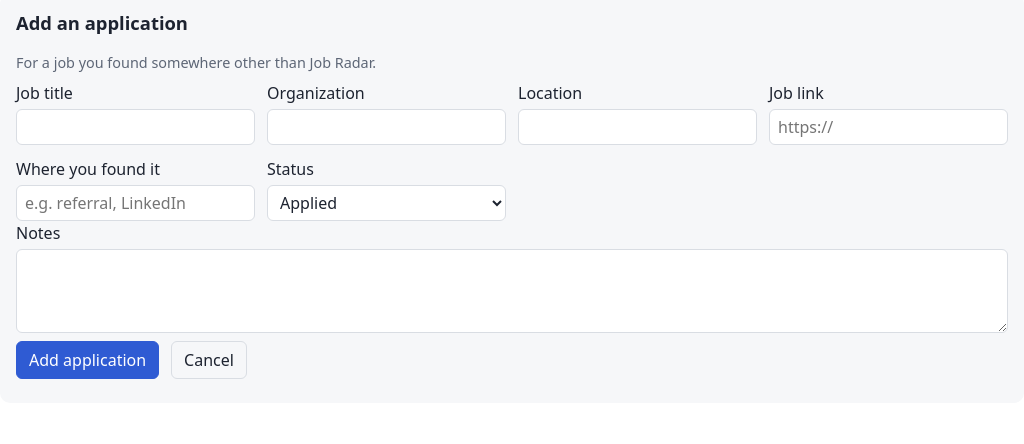
Test: AddApplicationForm › shows the server error
The width and height of the screenshot is (1024, 444).
Type "X" into the field labelled "Job title".
click(136, 128); type("X")  # box x1=16 y1=110 x2=255 y2=146
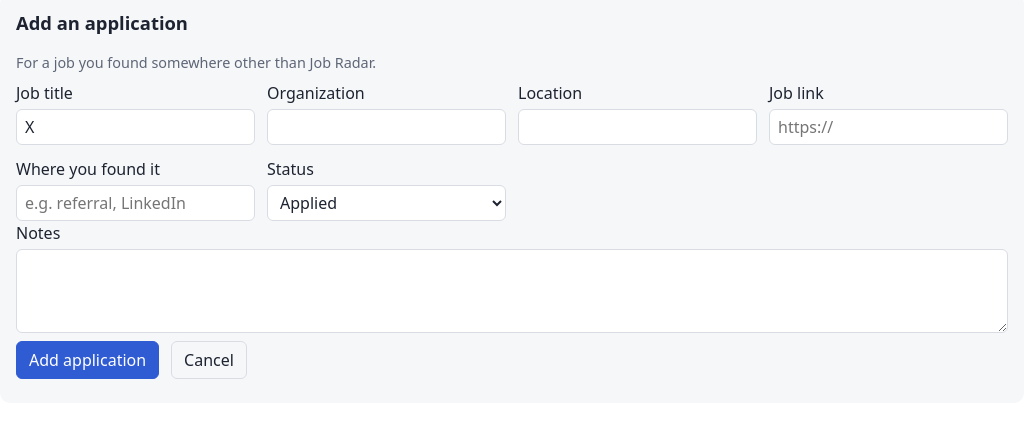
Type "Y" into the field labelled "Organization".
click(386, 128); type("Y")  # box x1=267 y1=110 x2=506 y2=146
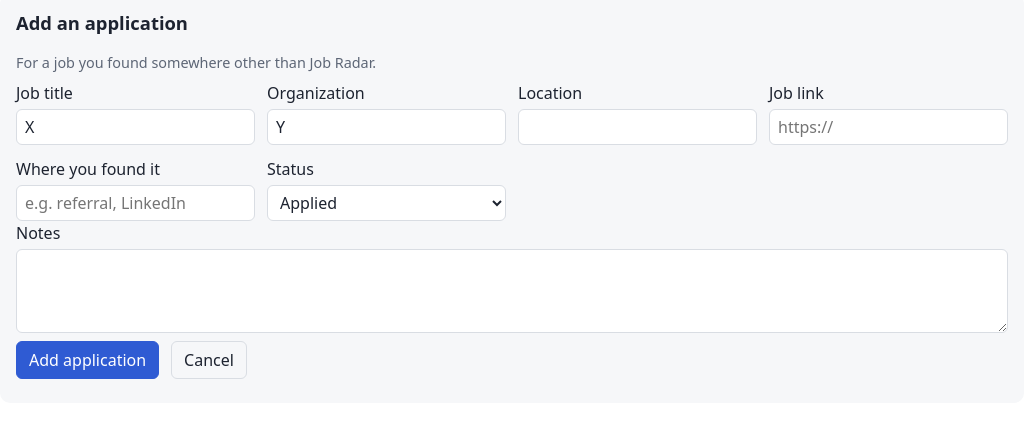
Click the button "Add application".
click(88, 360)  # box x1=16 y1=342 x2=159 y2=380
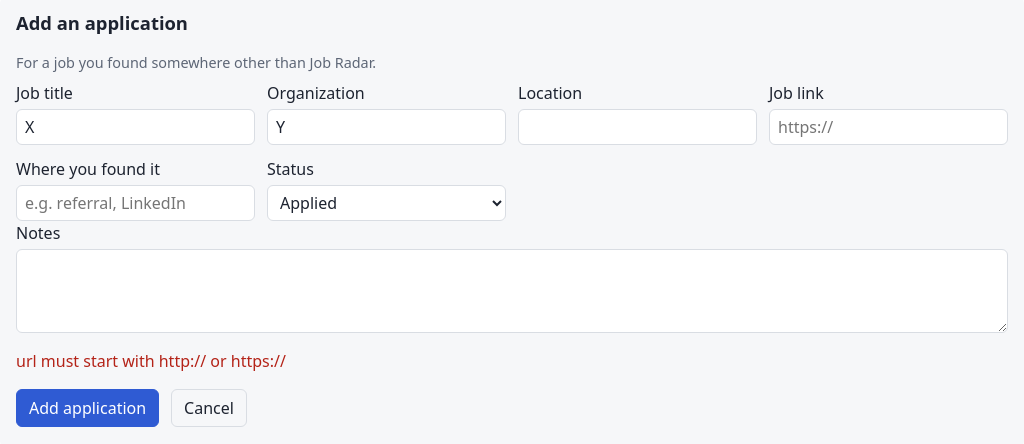
Expected: the text "url must start with http:// or https://" is shown, x1=16 y1=350 x2=286 y2=372
